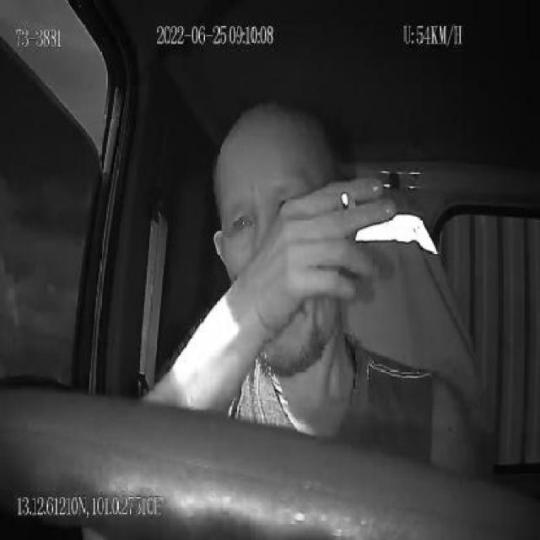smoking: (340, 188, 357, 210)
